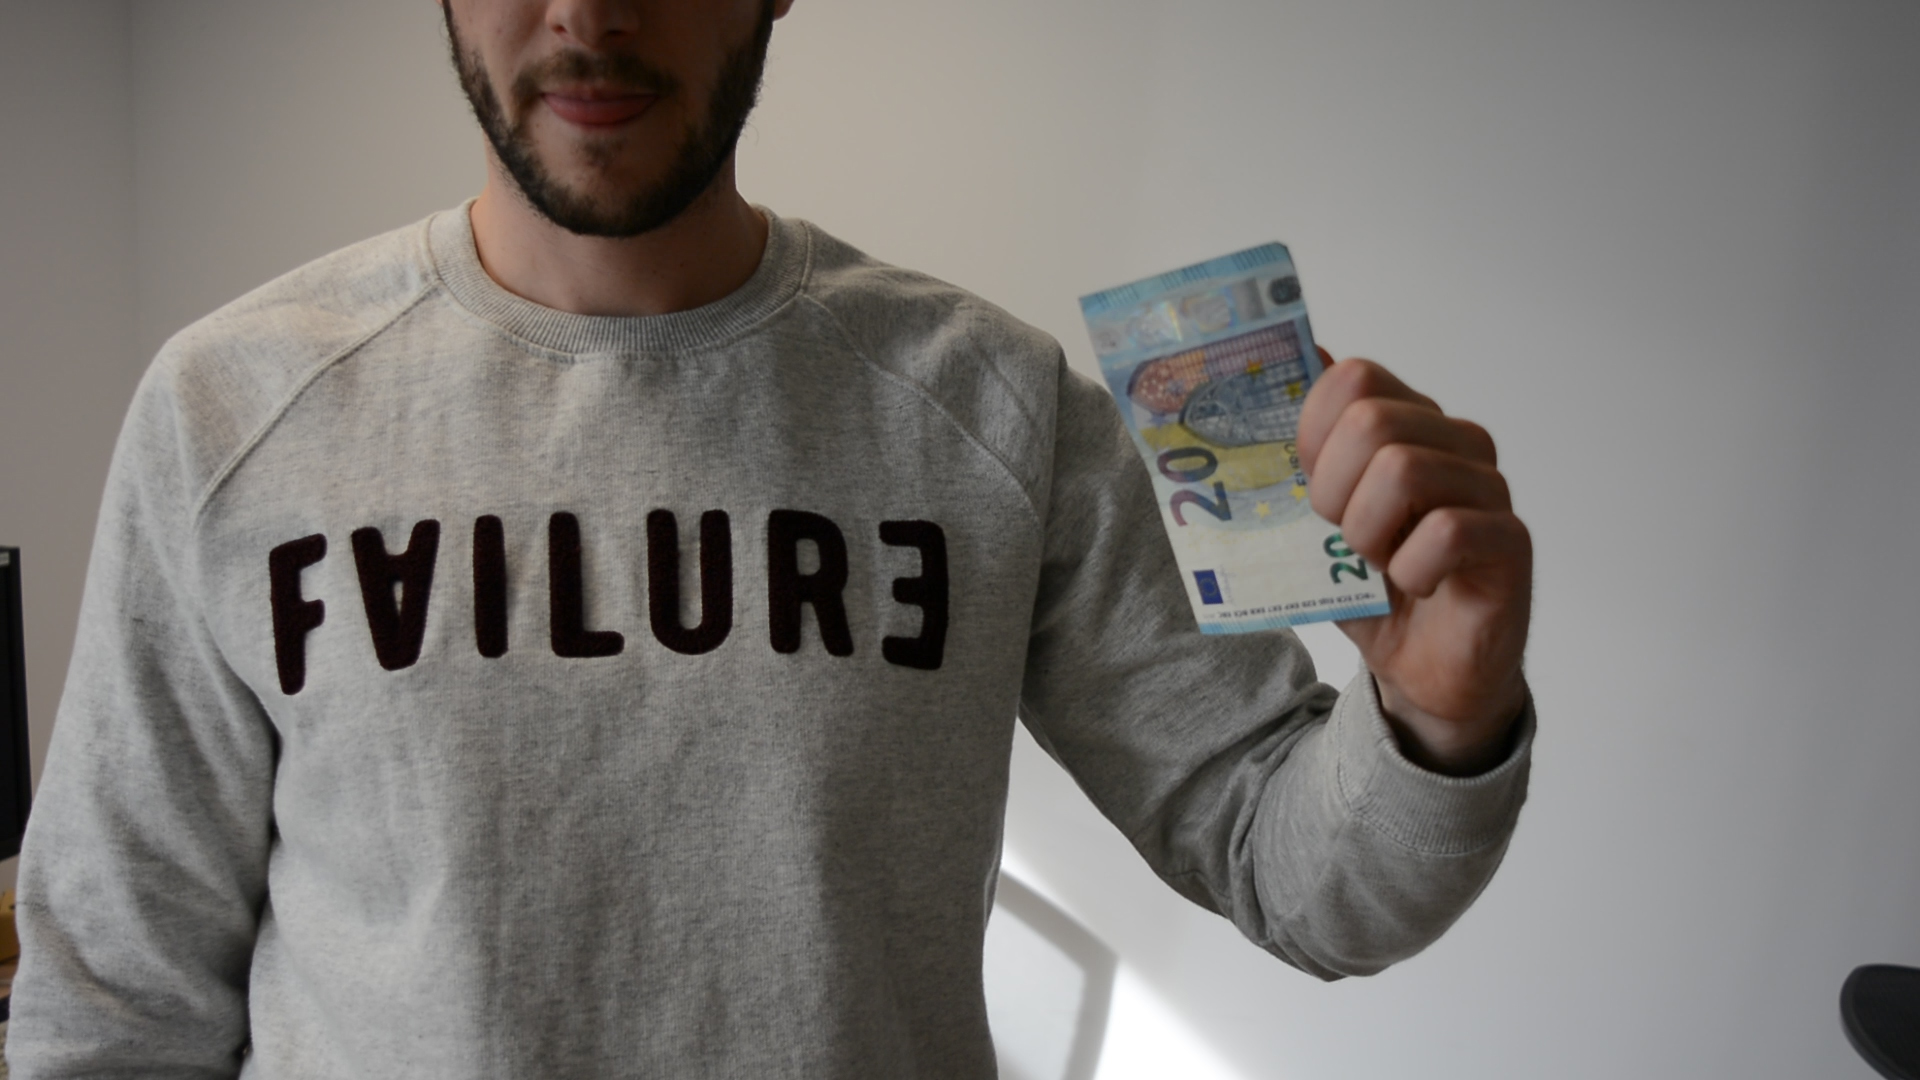billete: (1075, 239, 1395, 637)
